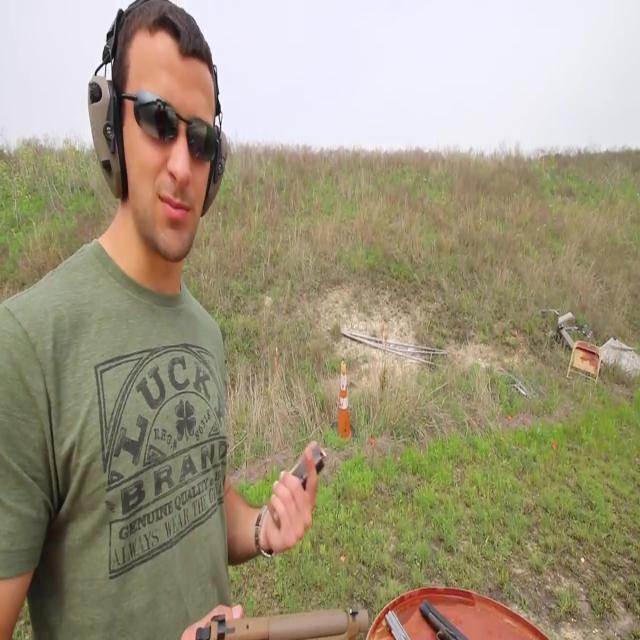Weapon: (201, 382, 589, 640)
